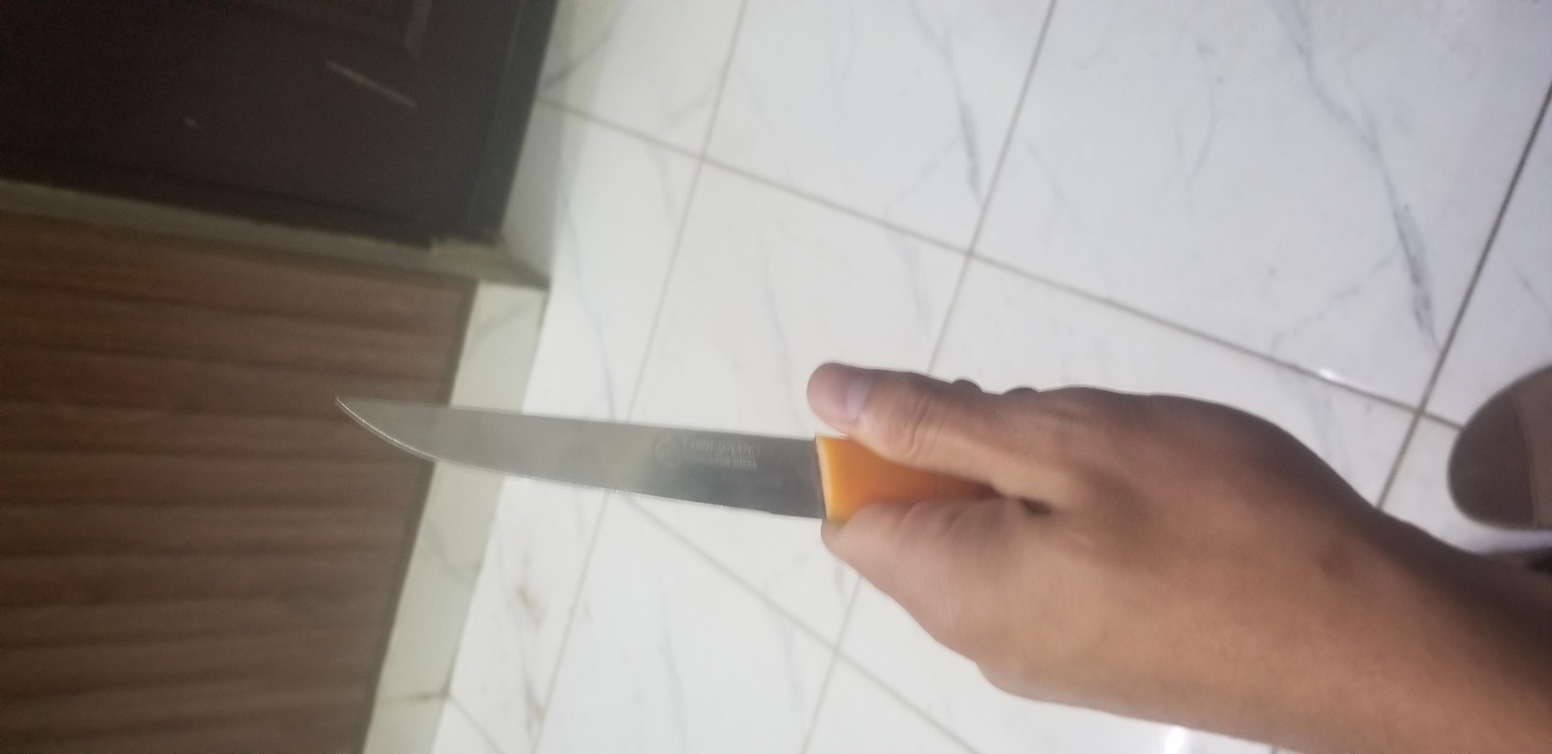knives: (351, 153, 936, 520)
